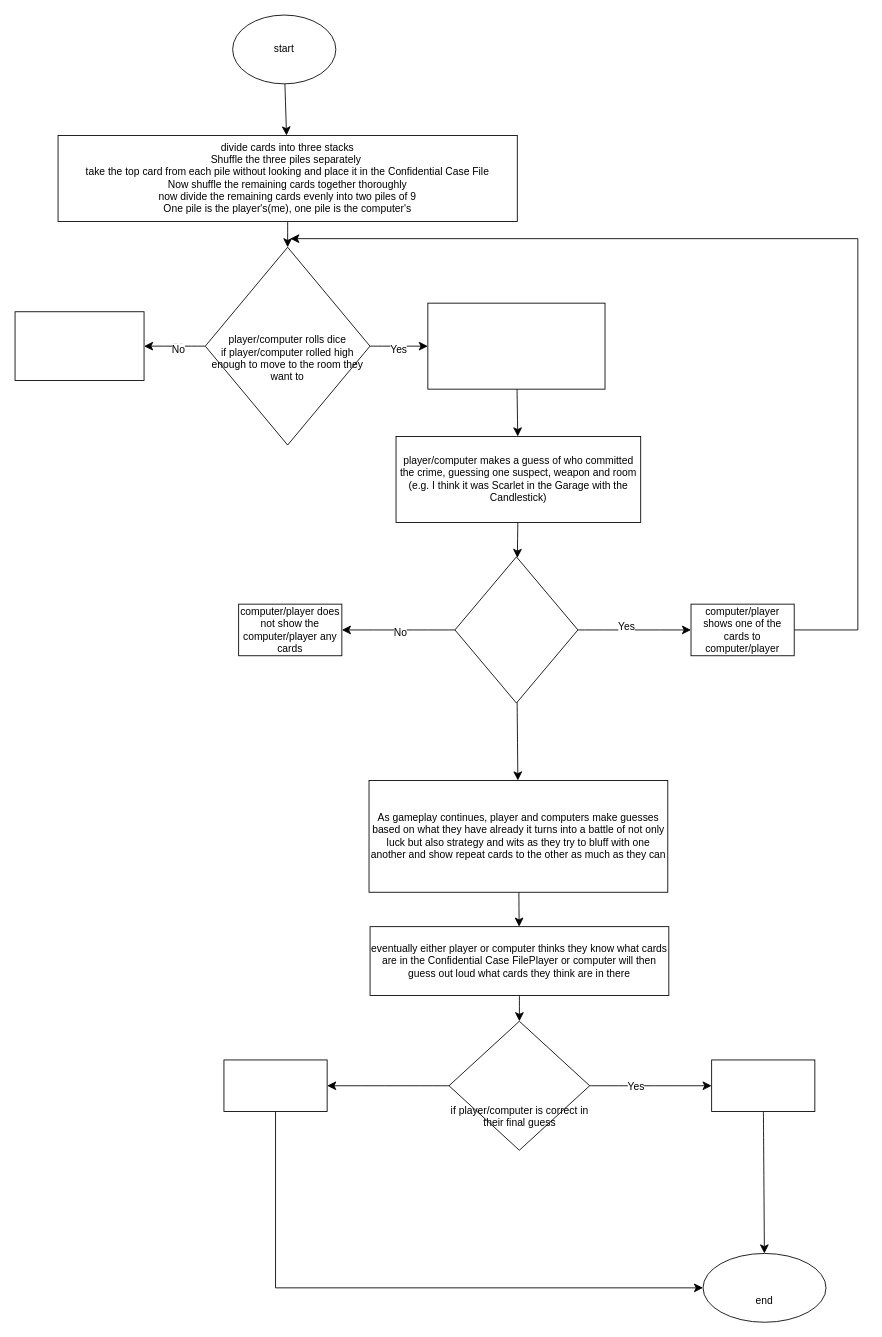
This 882x1337 diagram has some shape labels left out. Each missing label, with the box of its shape:
computer/player move to that room: (427, 302, 605, 389)
else computer/player moves a little bit and their turn ends: (14, 311, 144, 381)
Guesser looses and other one wins by default: (223, 1059, 327, 1112)
if computer/player has the a card(s) that matches one of those guessed: (454, 556, 578, 703)
they win: (711, 1059, 815, 1112)
